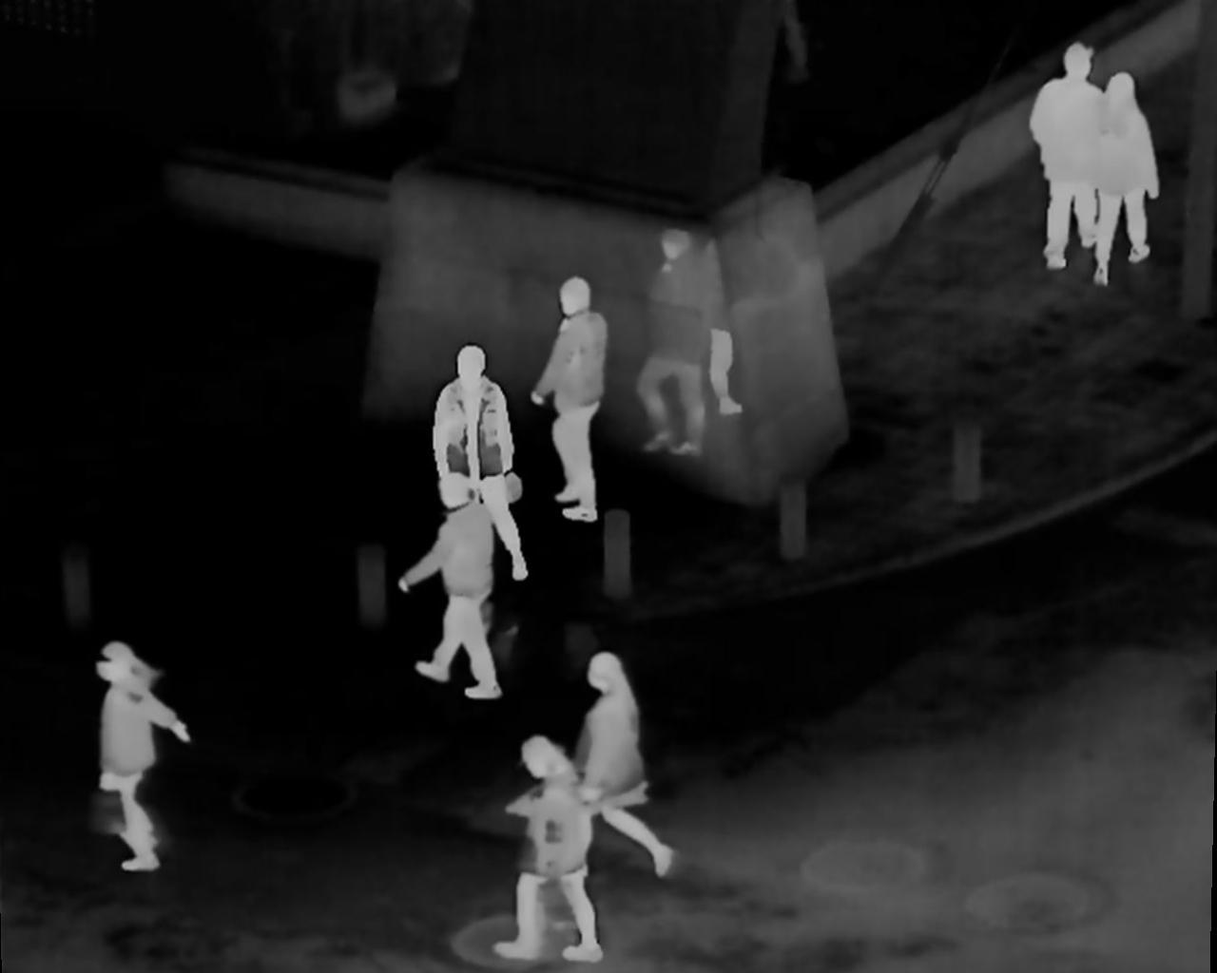person: (429, 341, 535, 574), (570, 660, 680, 874), (501, 729, 598, 956), (97, 636, 180, 868), (1025, 39, 1108, 264), (417, 474, 503, 689), (548, 281, 611, 529), (1093, 69, 1159, 294)
